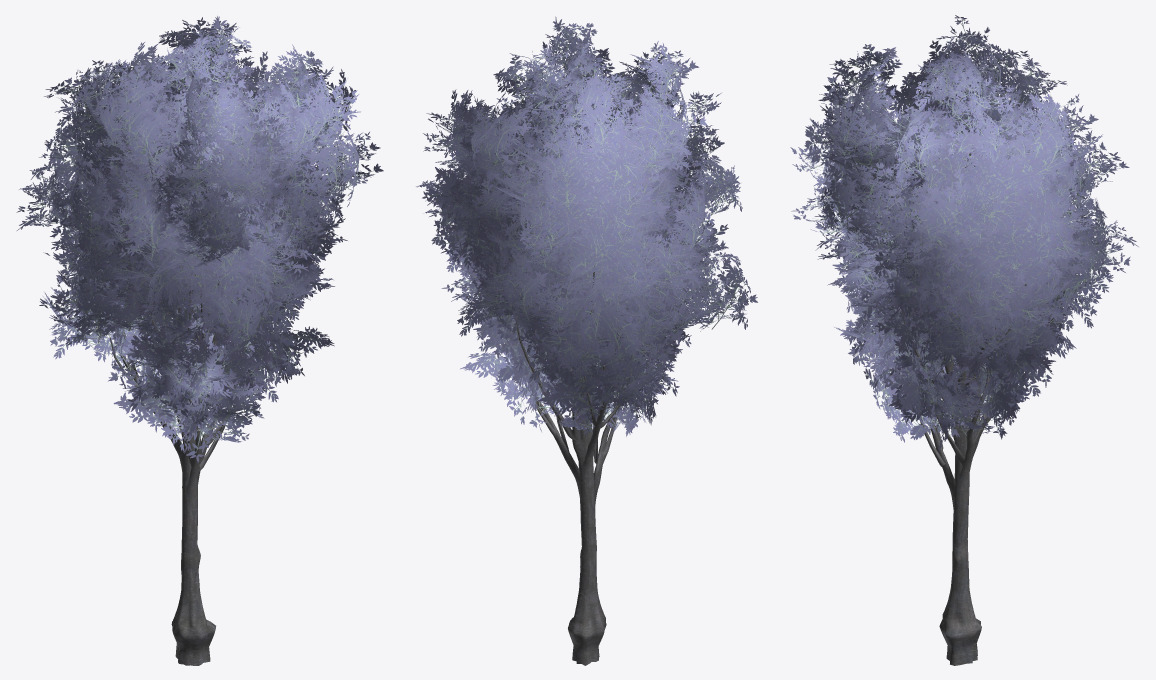
3 views of the same model, side by side, from view 1: azimuth 30°, elevation 25°; view 2: azimuth 150°, elevation 25°; view 3: azimuth 270°, elevation 25° (orthographic). The views are drawn at different scales.
Parts seen in each view (by area): view 1: SM_FH_Ash_Tree_03_LOD0; view 2: SM_FH_Ash_Tree_03_LOD0; view 3: SM_FH_Ash_Tree_03_LOD0.
Part boxes in pixels (x1,y1,x2,y2): SM_FH_Ash_Tree_03_LOD0: (16,16,383,665); SM_FH_Ash_Tree_03_LOD0: (416,16,757,665); SM_FH_Ash_Tree_03_LOD0: (790,15,1138,665).
Size of the model in its own units: 9.24 by 17.3 by 9.14.
Materials: 2 (2 with a texture image).
